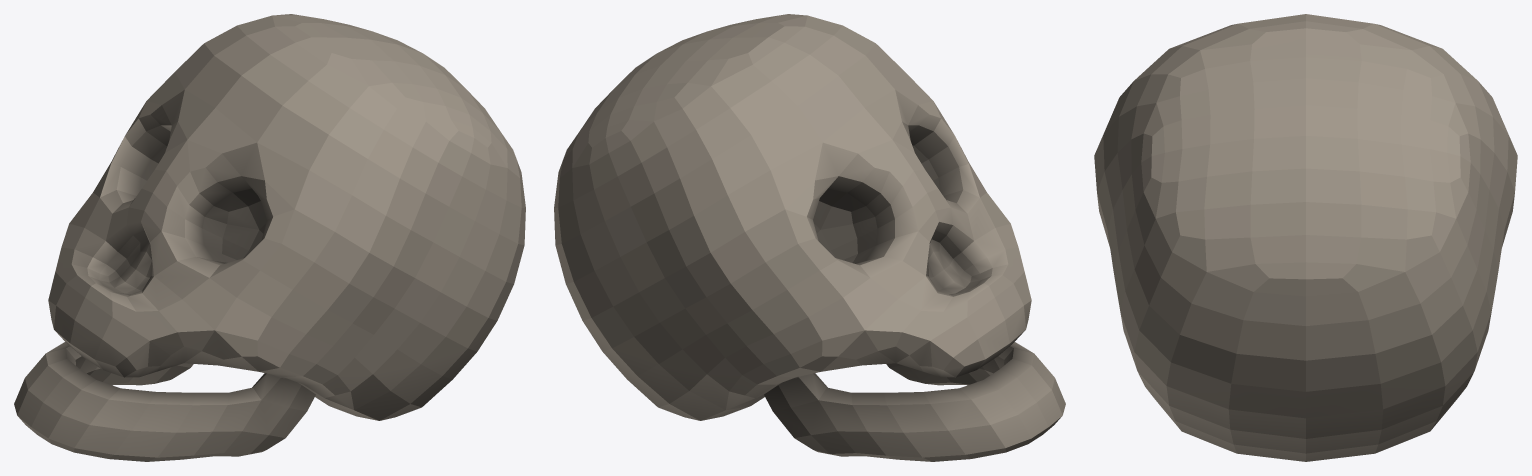
The model's file is pq_crane.glb.
The picture shows the model from 3 angles, left to right: view 1: azimuth 30°, elevation 25°; view 2: azimuth 150°, elevation 25°; view 3: azimuth 270°, elevation 25°; orthographic projection. The views are drawn at different scales.
Visible parts, largest first — view 1: Skull; view 2: Skull; view 3: Skull.
Boxes of the visible parts, <box> form: Skull: <box>14,14,525,461</box>; Skull: <box>554,14,1065,461</box>; Skull: <box>1094,14,1517,461</box>.
Size of the model in its own units: 0.2605 by 0.2 by 0.1901.
